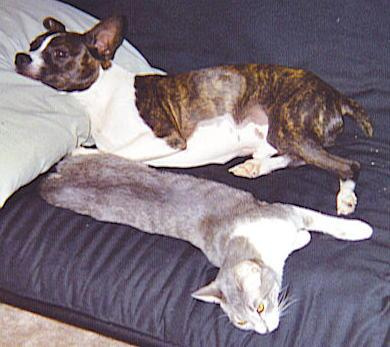cat: (40, 146, 374, 336)
dog: (15, 15, 374, 217)
